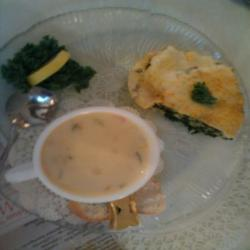omelette: (124, 54, 244, 144)
salad: (6, 37, 99, 105)
